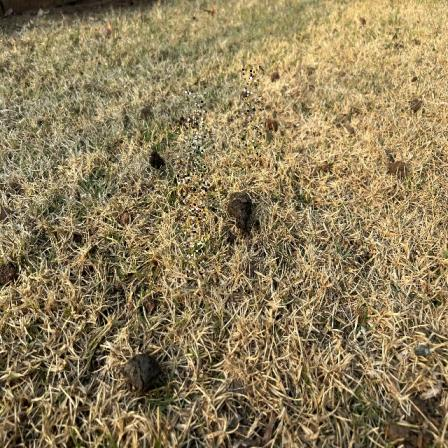dog-poop: (122, 350, 170, 392), (217, 189, 260, 225), (144, 146, 168, 178)
